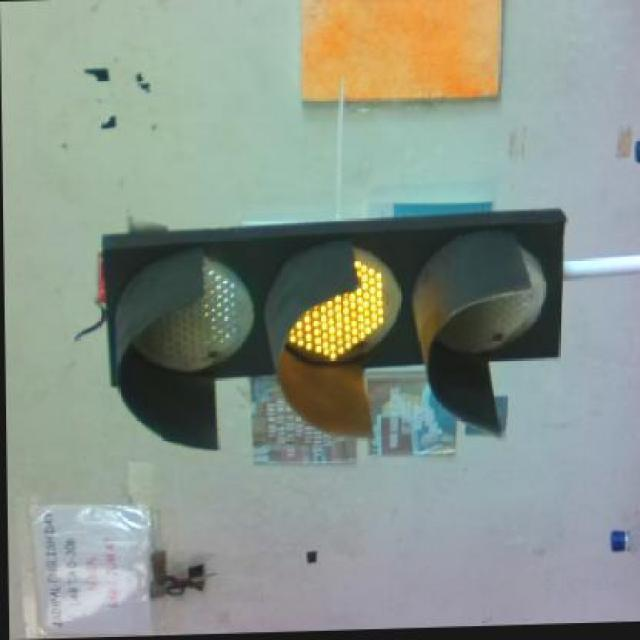yellow_light: (75, 209, 565, 446)
